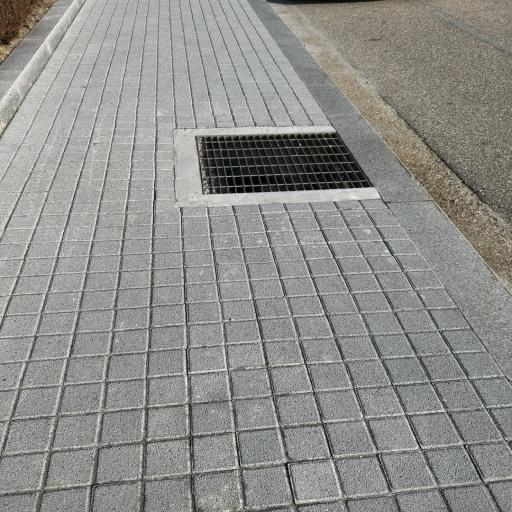drain: (197, 133, 370, 194)
